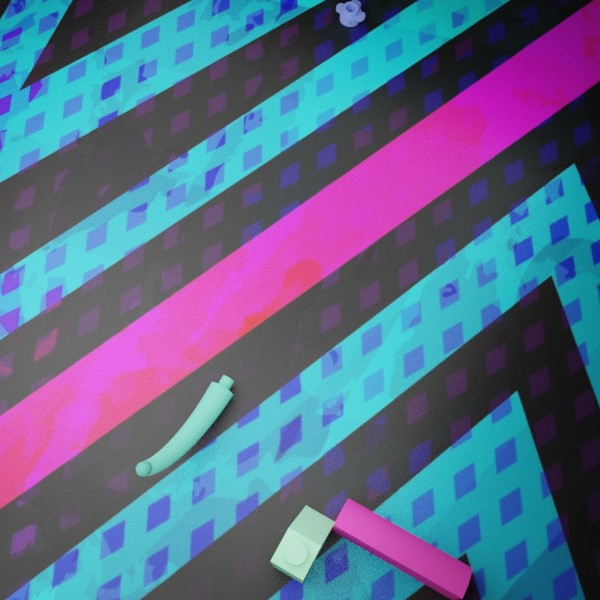lego: (331, 497, 472, 600), (135, 375, 233, 476), (270, 505, 335, 583), (336, 0, 365, 26)
